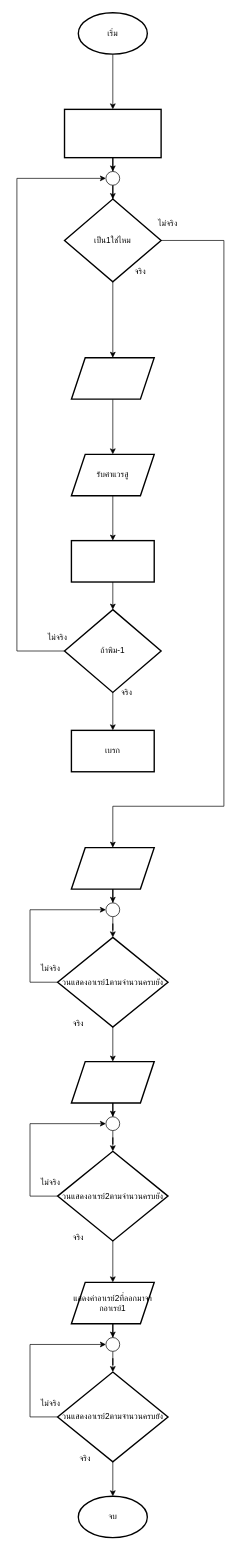
The diagram is 242 pixels wide and 1550 high, and some of its shapes have lost their labels. The centre of each missing label's shape, as x and y in pixels:
"กำหนดตัวแปรจำนวนอาเรย์2ตัว อินเดก แวรลู่" goes at (112,133).
"เก็บค่าอินเดก" goes at (112,561).
"แสดงค่าอาเรย์1" goes at (112,868).
"แสดงค่าอาเรย์2" goes at (112,1082).
"แสดงค่าอินเดก" goes at (112,378).
